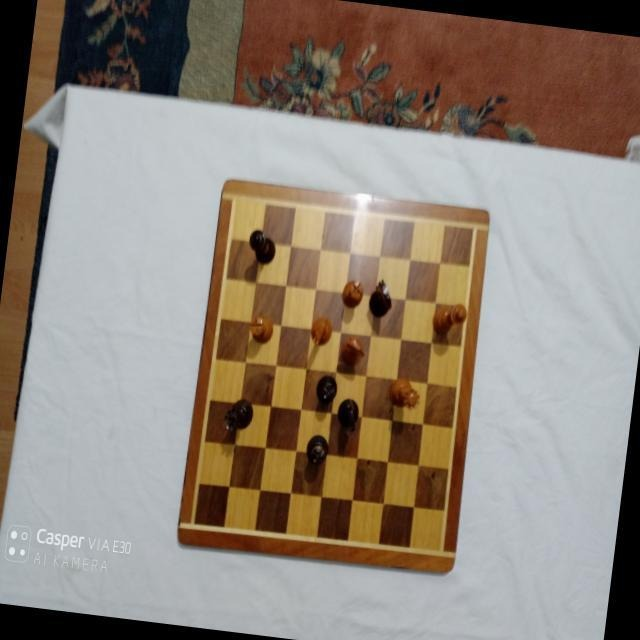black-king: (246, 228, 278, 265)
black-knight: (366, 276, 394, 319), (335, 396, 361, 436)
black-queen: (221, 395, 254, 434)
black-rook: (304, 433, 330, 467), (314, 374, 338, 406)
white-king: (430, 299, 468, 337)
white-knight: (338, 333, 366, 368), (308, 314, 334, 348)
white-queen: (387, 374, 423, 412)
white-rook: (246, 311, 274, 344), (339, 278, 364, 309)
